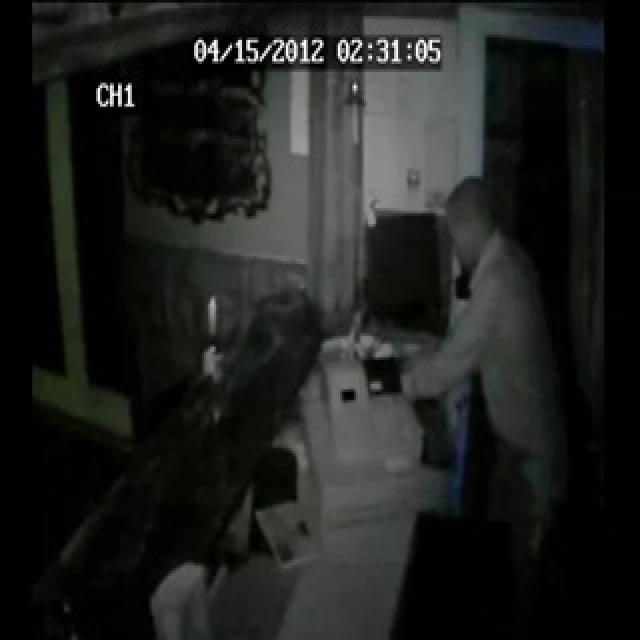thief: (410, 155, 538, 278)
